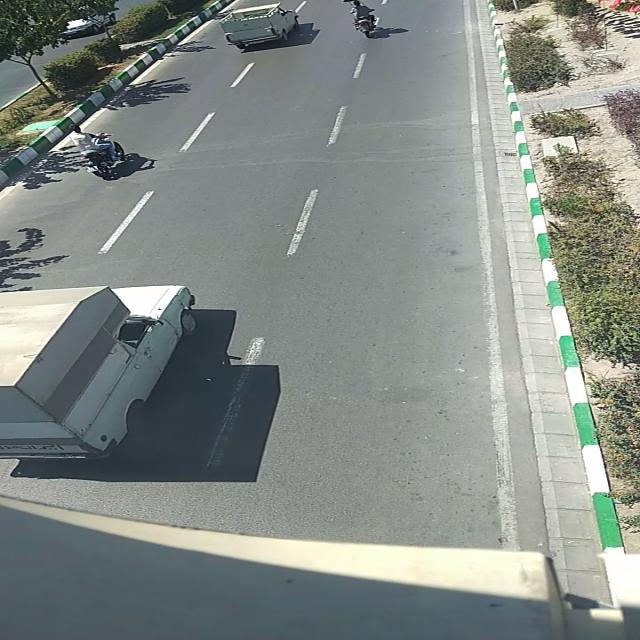car: (0, 282, 196, 459), (216, 3, 305, 50), (59, 12, 114, 38)
motor: (79, 120, 124, 180), (348, 2, 382, 38)
